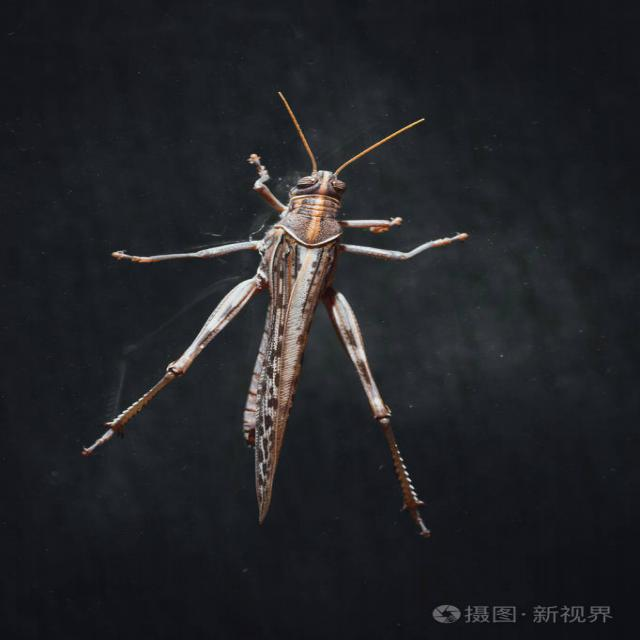ZhaMeng: (119, 56, 467, 560)
